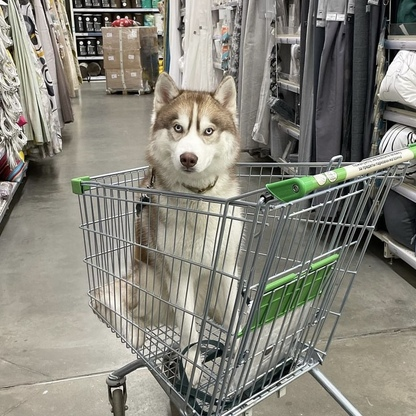husky: (87, 68, 257, 388)
